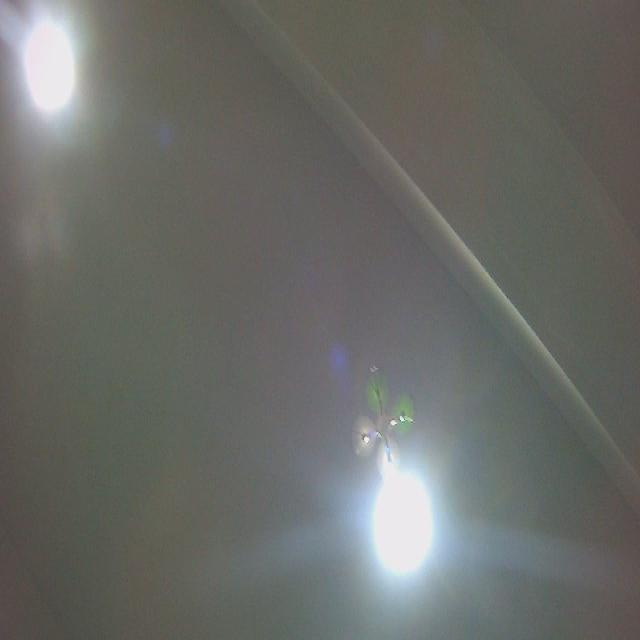drone: (346, 362, 419, 491)
